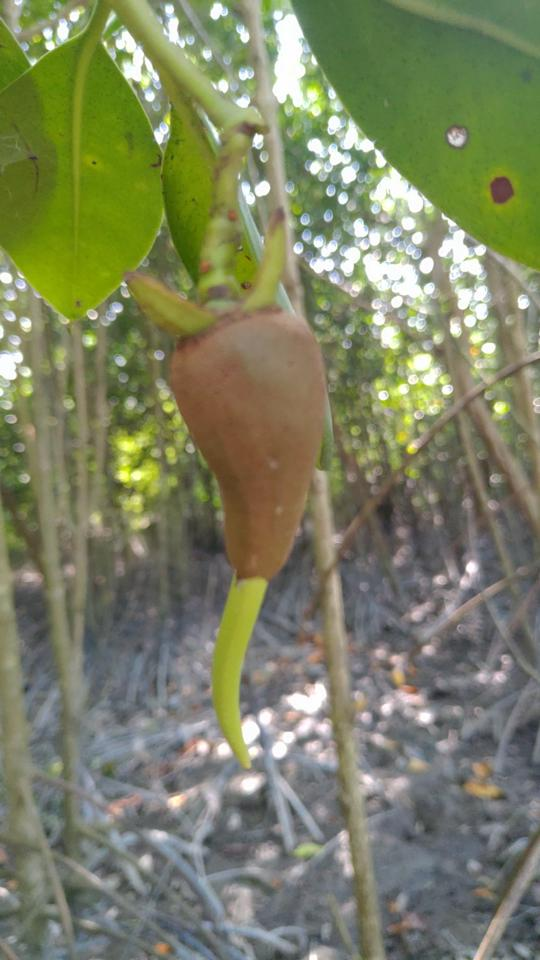mentah: (117, 195, 341, 793)
